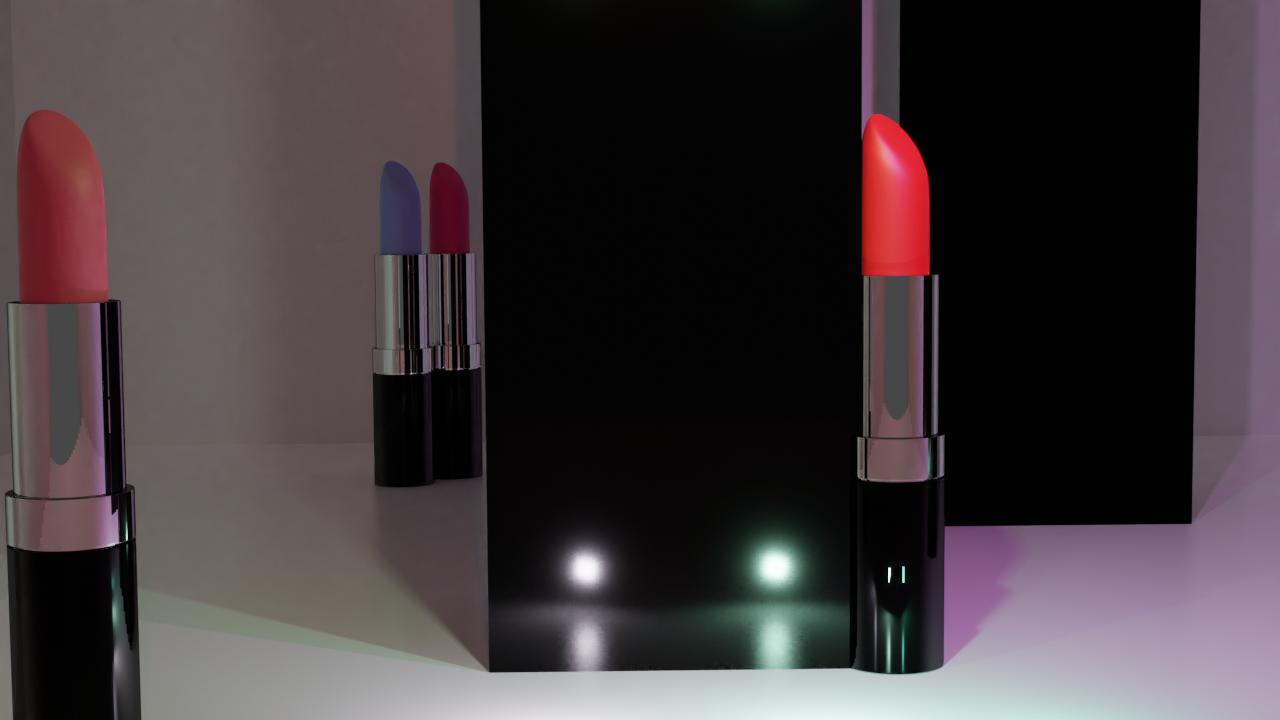CLASSIFIER_NAME: (2, 101, 146, 720), (839, 107, 948, 675), (371, 157, 437, 487), (421, 158, 484, 479)
